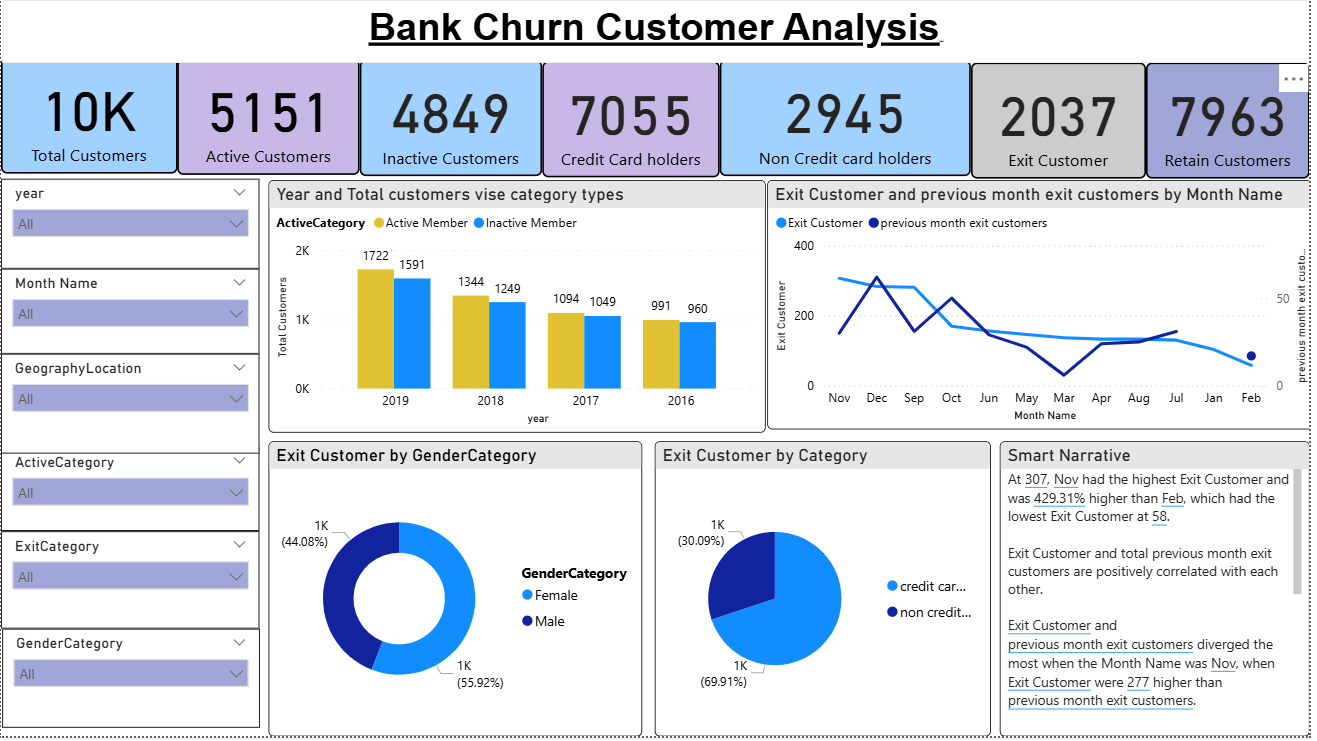

The dashboard page shown, as its layout file describes it:
{"tool":"powerbi","page":{"name":"Bank Churn Analysis","canvas":[1280,720],"ordinal":0},"visuals":[{"type":"card","fields":{"Values":["Calculations.Total Customers"]},"box":[0,56.3,172.4,113.7],"z":0},{"type":"card","fields":{"Values":["Calculations.Active Customers"]},"box":[172.4,57.5,178.5,113.7],"z":1000},{"type":"card","fields":{"Values":["Calculations.Inactive Customers"]},"box":[351,58.7,178.5,113.7],"z":2000},{"type":"card","fields":{"Values":["Calculations.Credit Card holders"]},"box":[529.5,59.9,173.6,113.7],"z":3000},{"type":"card","fields":{"Values":["Calculations.Non Credit card holders"]},"box":[703.1,58.7,245.8,113.7],"z":4000},{"type":"card","fields":{"Values":["Calculations.Exit Customer"]},"box":[948.6,61.1,170.8,113.9],"z":5000},{"type":"card","fields":{"Values":["Calculations.Retain Customers"]},"box":[1120.1,61.1,160.2,113.7],"z":6000},{"type":"clusteredColumnChart","title":"Year and Total customers vise category types","fields":{"Category":["DateMaster.year"],"Y":["Calculations.Total Customers"],"Series":["ActiveCustomer.ActiveCategory"]},"box":[262,175.9,486.1,246.8],"z":7000},{"type":"lineChart","fields":{"Category":["DateMaster.Month Name"],"Y":["Calculations.Exit Customer"],"Y2":["Calculations.previous month exit customers"]},"box":[750,176,537,244],"z":8000},{"type":"donutChart","fields":{"Category":["Gender.GenderCategory"],"Y":["Calculations.Exit Customer"]},"box":[261.7,431.7,365.6,288.6],"z":9000},{"type":"pieChart","fields":{"Y":["Calculations.Exit Customer"],"Category":["CreditCard.Category"]},"box":[639.5,431.7,328.9,288.6],"z":10000},{"type":"slicer","fields":{"Values":["DateMaster.year"]},"box":[0,174.9,253.1,88],"z":11000},{"type":"slicer","fields":{"Values":["DateMaster.Month Name"]},"box":[0,262.9,253.1,83.2],"z":12000},{"type":"textbox","title":"Smart Narrative","box":[977,431.7,303.3,288.6],"z":13000},{"type":"slicer","fields":{"Values":["ActiveCustomer.ActiveCategory"]},"box":[0,437.8,253.1,81.9],"z":14000},{"type":"slicer","fields":{"Values":["Geography.GeographyLocation"]},"box":[0,346.1,253.1,97.8],"z":15000},{"type":"slicer","fields":{"Values":["ExitCustomer.ExitCategory"]},"box":[0,519.7,253.1,95.4],"z":16000},{"type":"slicer","fields":{"Values":["Gender.GenderCategory"]},"box":[1.2,615.1,251.9,96.6],"z":17000},{"type":"textbox","box":[1.2,0,1279.1,61.1],"z":18000}]}

Visuals, with their boxes in screenshot pixels (x1, y1, x2, y2), scaled from the page's 1280x720 canvas onto the 1317x741 screenshot:
card - Calculations.Total Customers: (x1=0, y1=58, x2=177, y2=175)
card - Calculations.Active Customers: (x1=177, y1=59, x2=361, y2=176)
card - Calculations.Inactive Customers: (x1=361, y1=60, x2=545, y2=177)
card - Calculations.Credit Card holders: (x1=545, y1=62, x2=723, y2=179)
card - Calculations.Non Credit card holders: (x1=723, y1=60, x2=976, y2=177)
card - Calculations.Exit Customer: (x1=976, y1=63, x2=1152, y2=180)
card - Calculations.Retain Customers: (x1=1152, y1=63, x2=1316, y2=180)
"Year and Total customers vise category types" clusteredColumnChart: (x1=270, y1=181, x2=770, y2=435)
lineChart - DateMaster.Month Name x Calculations.Exit Customer: (x1=772, y1=181, x2=1316, y2=432)
donutChart - Gender.GenderCategory x Calculations.Exit Customer: (x1=269, y1=444, x2=645, y2=740)
pieChart - Calculations.Exit Customer x CreditCard.Category: (x1=658, y1=444, x2=996, y2=740)
slicer - DateMaster.year: (x1=0, y1=180, x2=260, y2=271)
slicer - DateMaster.Month Name: (x1=0, y1=271, x2=260, y2=356)
"Smart Narrative" textbox: (x1=1005, y1=444, x2=1316, y2=740)
slicer - ActiveCustomer.ActiveCategory: (x1=0, y1=451, x2=260, y2=535)
slicer - Geography.GeographyLocation: (x1=0, y1=356, x2=260, y2=457)
slicer - ExitCustomer.ExitCategory: (x1=0, y1=535, x2=260, y2=633)
slicer - Gender.GenderCategory: (x1=1, y1=633, x2=260, y2=732)
textbox: (x1=1, y1=0, x2=1316, y2=63)
